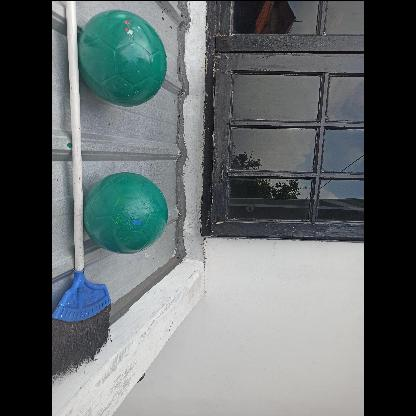green_ball: (76, 12, 168, 102), (85, 168, 170, 254)
